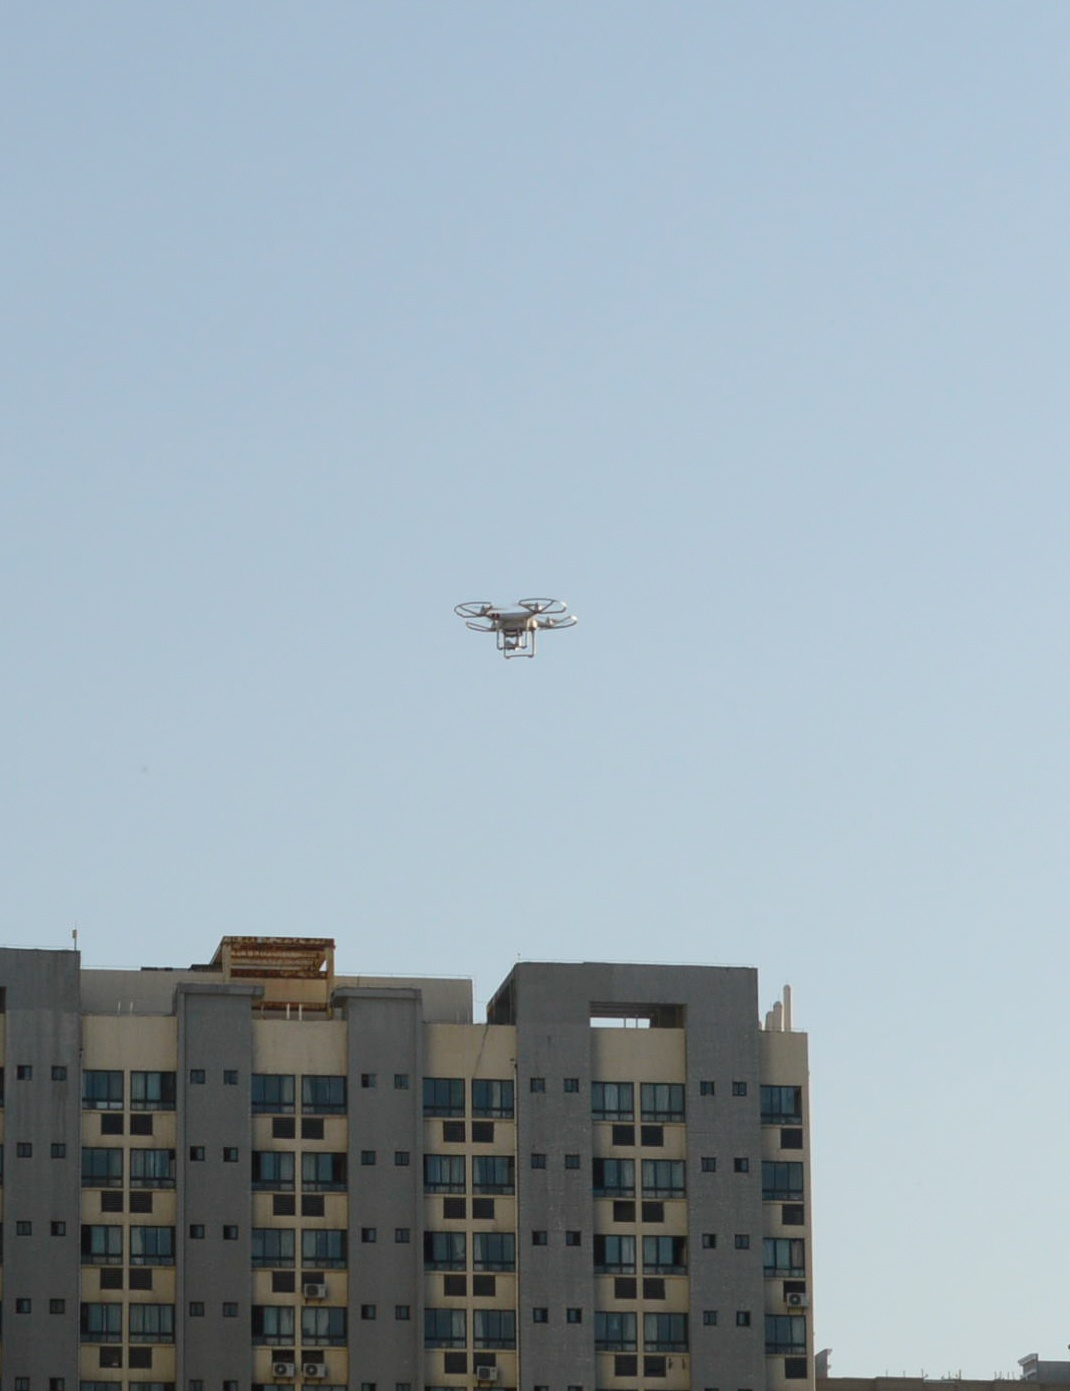DJI: (451, 590, 580, 663)
